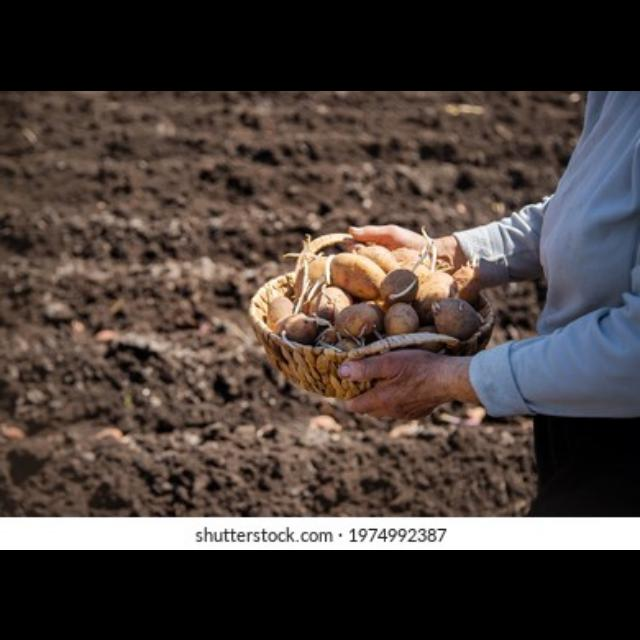Sprouted potato: (320, 249, 388, 301), (288, 248, 340, 316), (422, 296, 486, 340), (326, 300, 384, 340), (279, 310, 335, 348), (376, 266, 424, 306), (266, 284, 292, 336)
